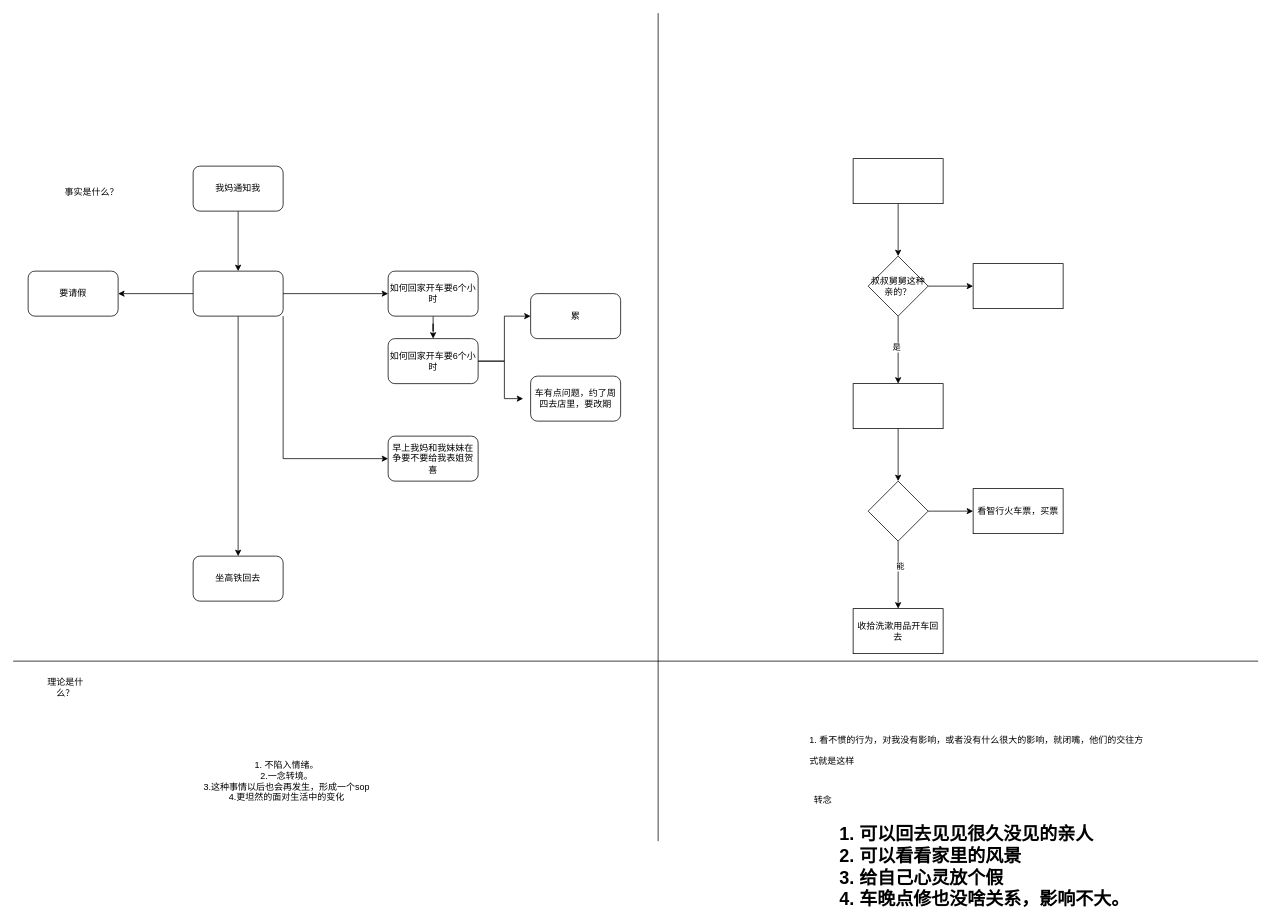
Image size: 1272x924. Some labels were removed from this diagram. The centre of each missing label's shape, as x and y in pixels:
不回去，帮我爸妈买票: the point at 1017,286
发生事情？: the point at 897,181
我烦躁，说话不好听: the point at 237,293
没有特殊情况 请假回去！: the point at 897,406
能否开车？: the point at 897,510
